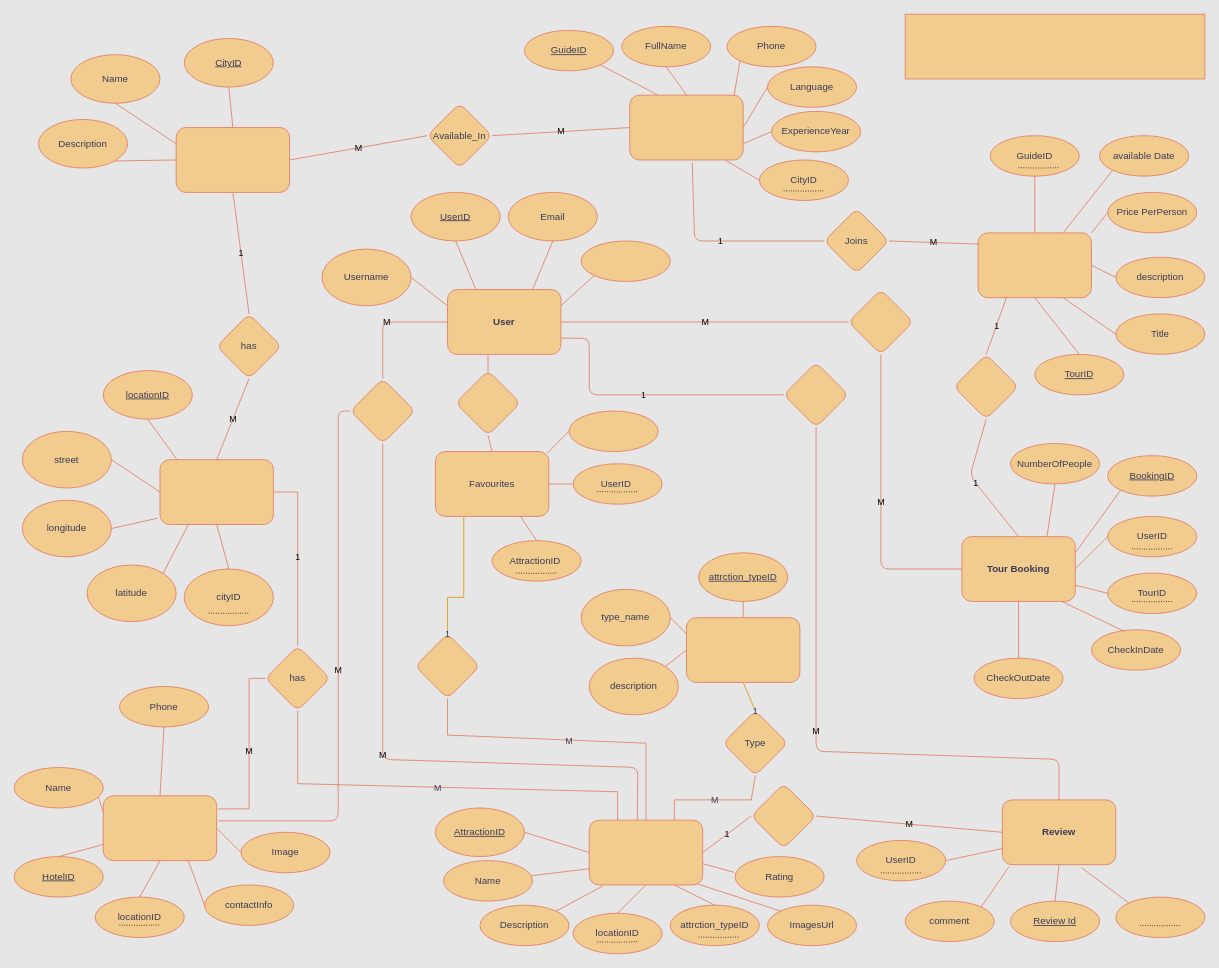
Image size: 1219x968. Some labels were removed from this diagram. The shapes that lost their labels are listed below. From the top down, each one's centre as x and y in pixels, then its label:
point (1054, 46): ER Diagram
point (686, 127): Guide
point (232, 159): City
point (625, 260): Password
point (1034, 265): Tour
point (880, 321): makes-bookings
point (487, 402): add
point (815, 394): Writes
point (986, 386): has-bookings
point (382, 410): Browse
point (613, 431): FavouriteID
point (216, 491): Location
point (447, 666): Select
point (743, 649): Attraction_type
point (159, 828): Hotel
point (783, 815): has-reviews
point (645, 852): Attractions
point (1160, 917): AtrractionID
